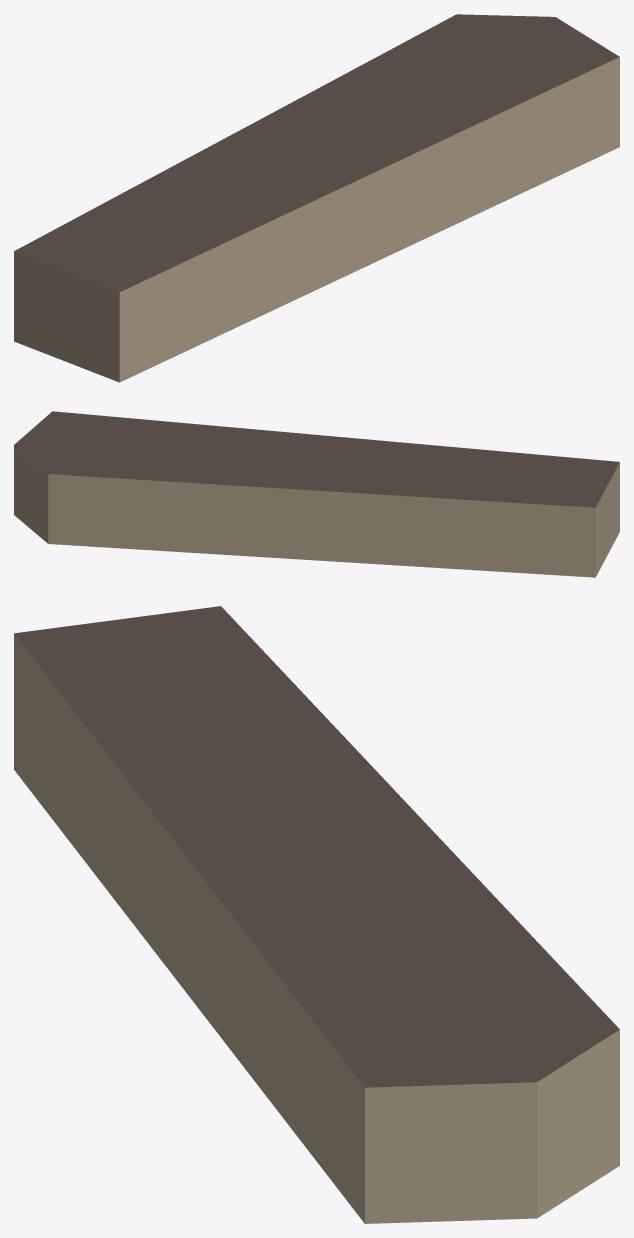
3 views of the same model, one above another, from view 1: azimuth 30°, elevation 25°; view 2: azimuth 150°, elevation 25°; view 3: azimuth 270°, elevation 25° (orthographic). The views are drawn at different scales.
Visible parts, largest first — view 1: HP-w1376988734; view 2: HP-w1376988734; view 3: HP-w1376988734.
Boxes of the visible parts, bbox=[...] form: HP-w1376988734: bbox=[14, 14, 619, 382]; HP-w1376988734: bbox=[14, 411, 619, 577]; HP-w1376988734: bbox=[14, 606, 619, 1223].
Bounding box in the file's own units: 45.48 × 6 × 24.18.
